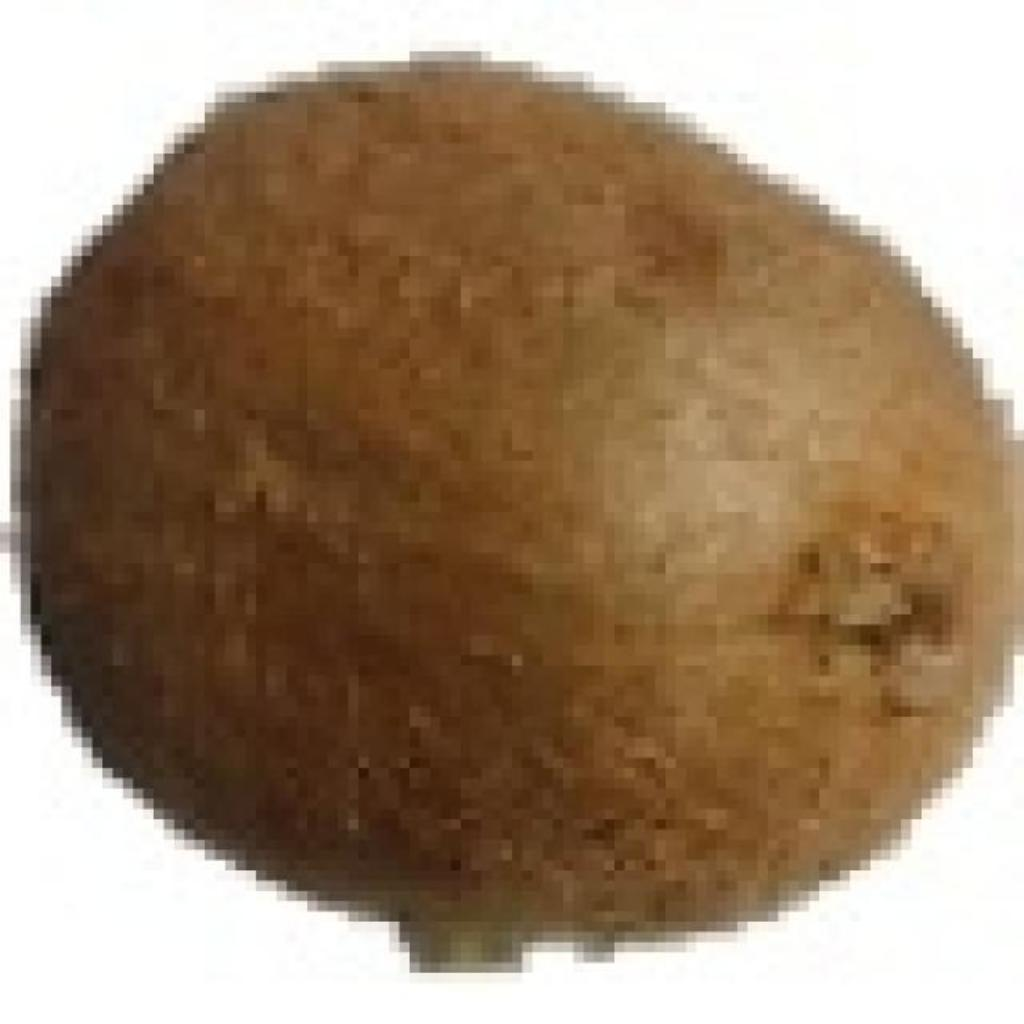kiwi: (41, 51, 1024, 942)
